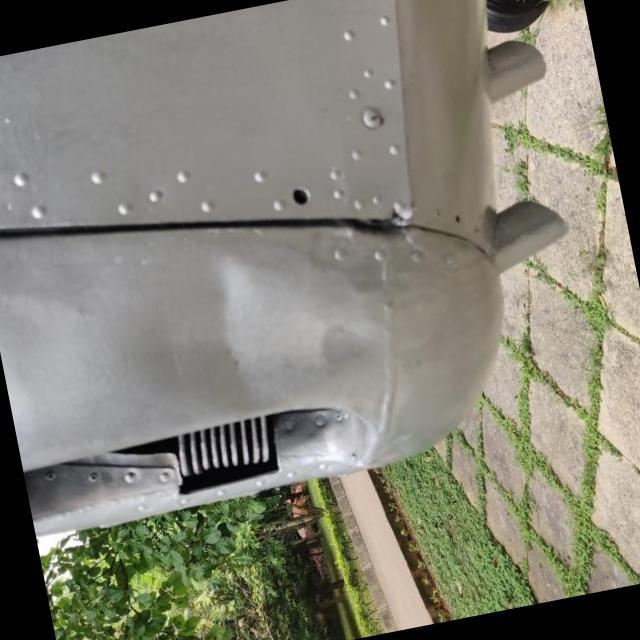Dent: (81, 212, 448, 442)
Fastener Damage: (274, 168, 329, 222)
